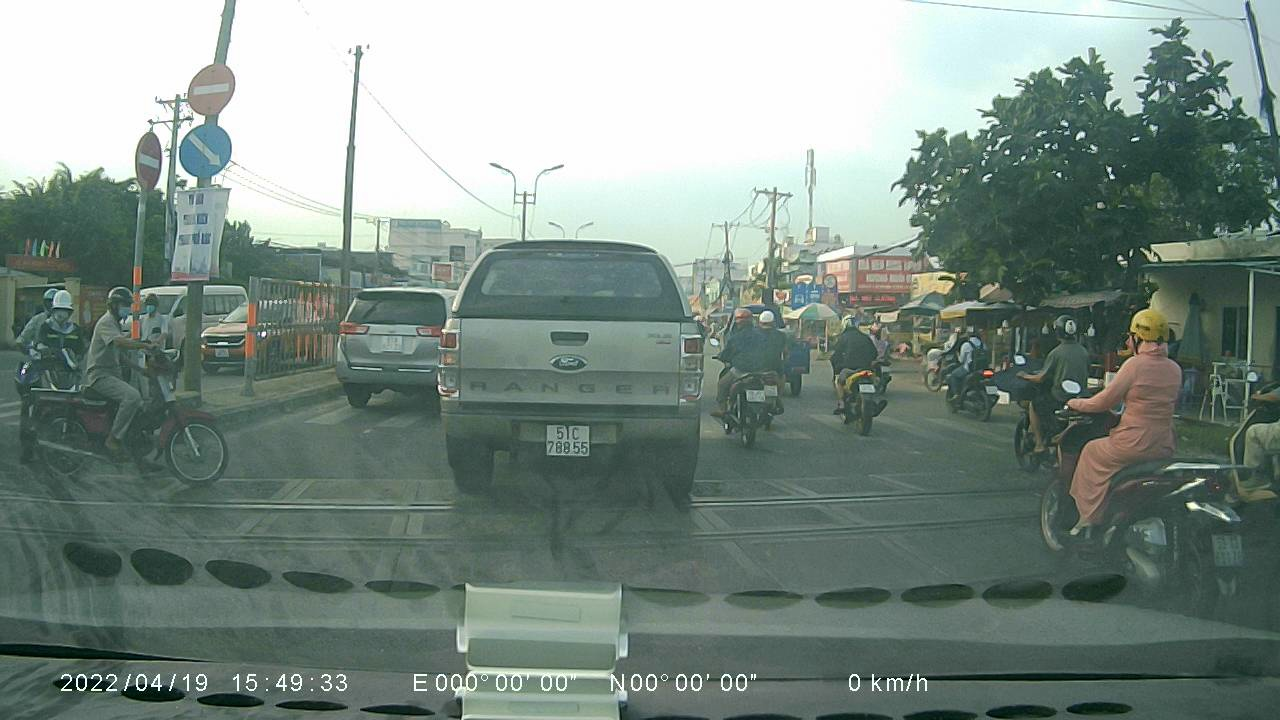Cam di nguoc chieu: (188, 60, 236, 114), (133, 129, 166, 192)
Huong di phai re phai: (176, 122, 236, 178)
